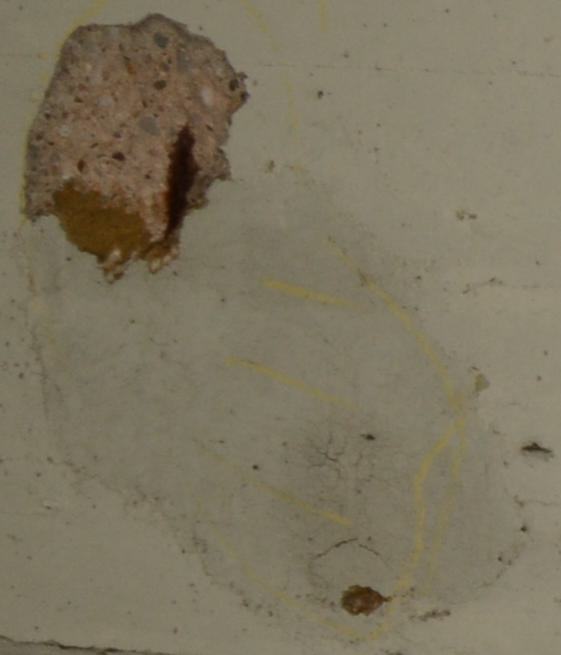Exposed reinforcement: (163, 120, 203, 242)
Spalling: (20, 12, 250, 285), (341, 583, 392, 617)
